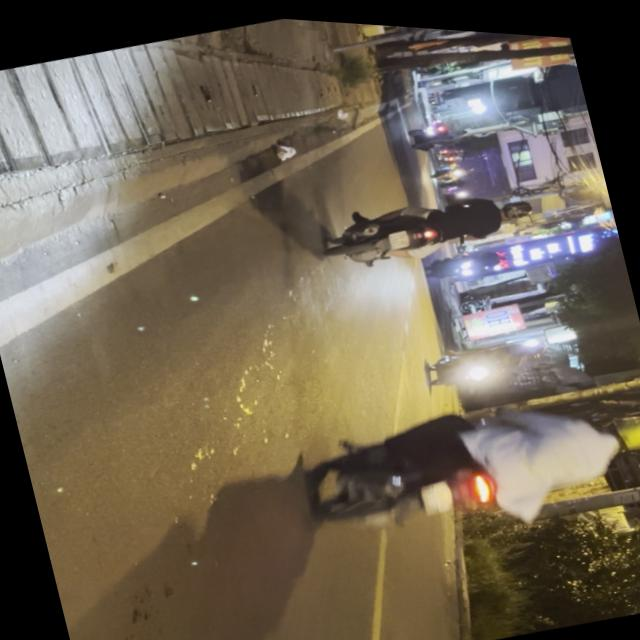helmet: (601, 401, 640, 450), (500, 191, 535, 218)
licenseplate: (292, 348, 640, 573), (320, 162, 542, 282)
nohelmet: (419, 472, 456, 512), (386, 224, 409, 245)
